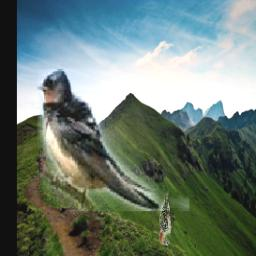Swallow: (38, 69, 189, 211)
Woodpecker: (159, 189, 174, 246)
